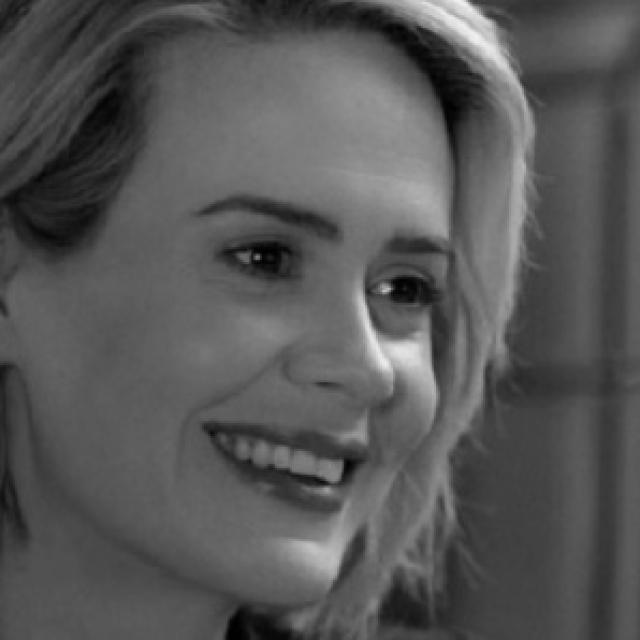Normal: (31, 30, 458, 606)
